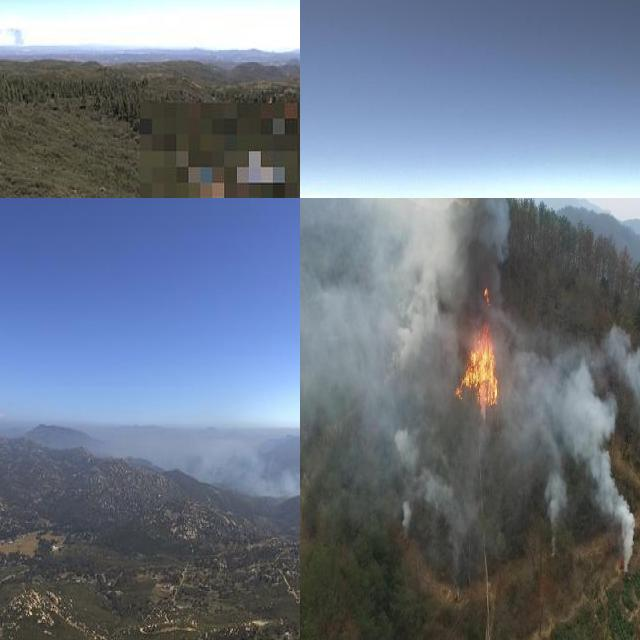fire: (432, 259, 528, 429)
smoke: (300, 198, 640, 571), (172, 408, 300, 505), (0, 23, 26, 57)
